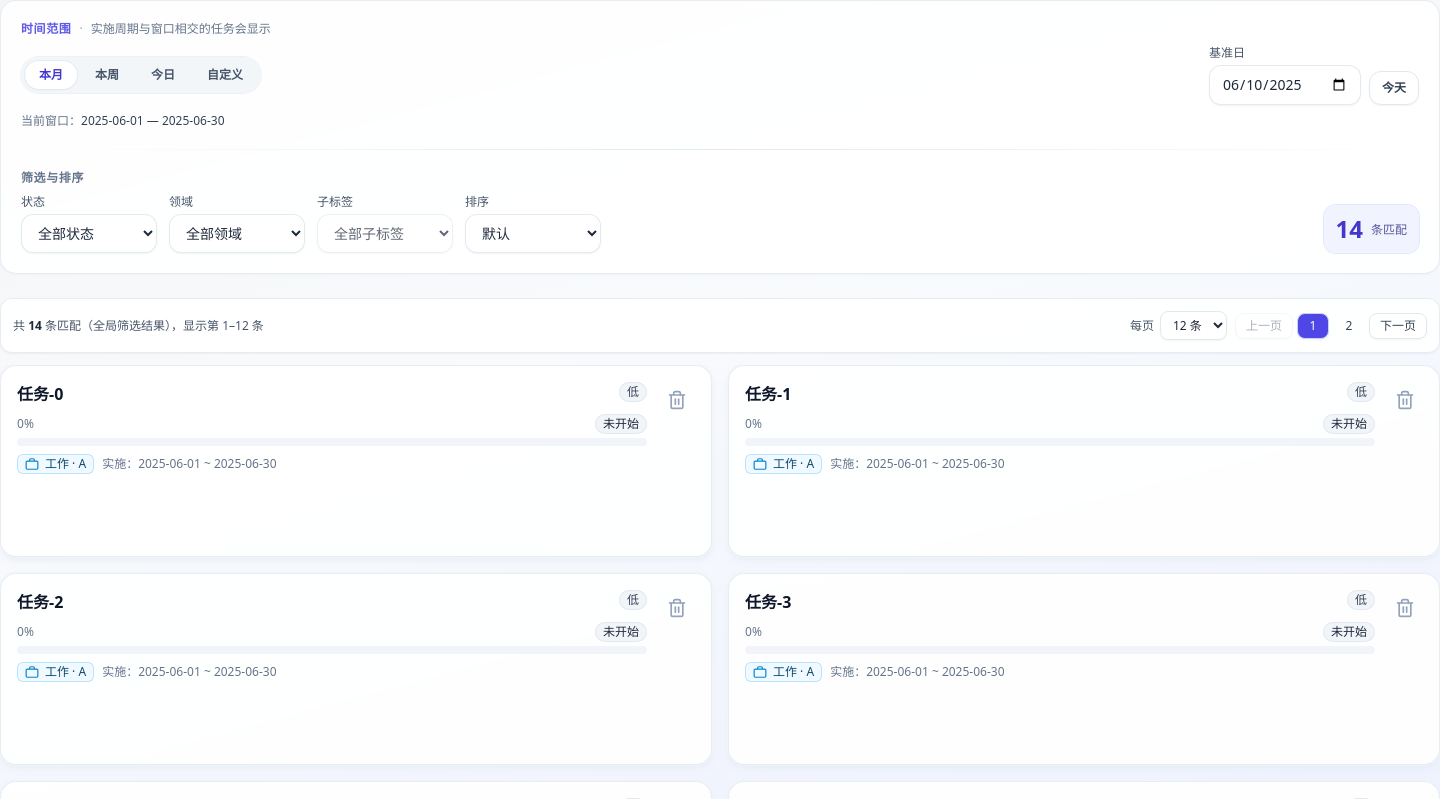
Scenario: TaskList › paginates after global filter: page 2 shows remaining tasks
This screenshot has width=1440, height=799.
Expected: the element with test id "task-list-pagination" is shown, [0,298,1439,353]
Expected: the heading "任务-0" is shown, [17,382,63,406]
Click the button "下一页" at (1398, 326), box [1369,312,1427,338]
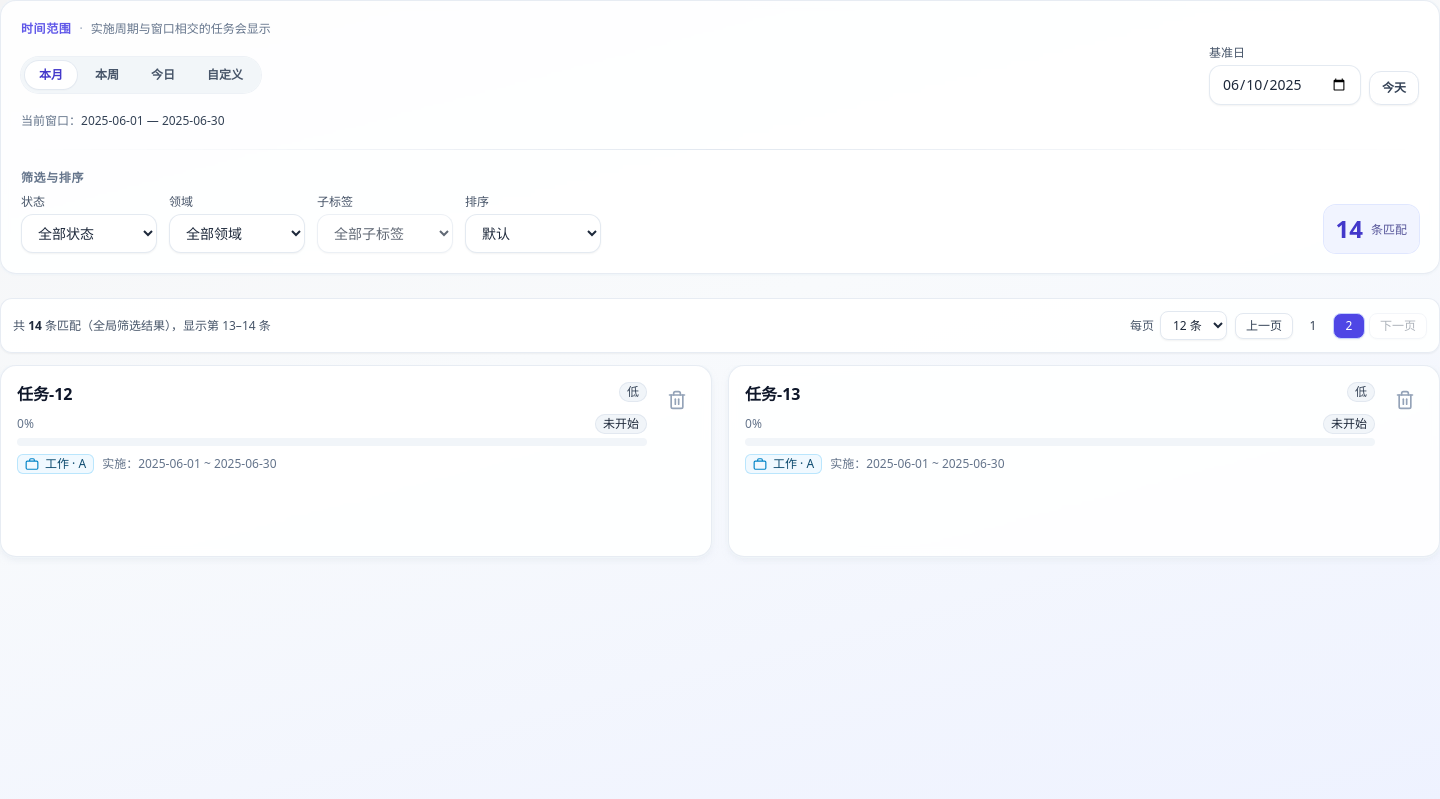
Result: the button "任务-0" is gone
Result: the heading "任务-12" is shown at [17,382,72,406]
Result: the heading "任务-13" is shown at [745,382,800,406]
